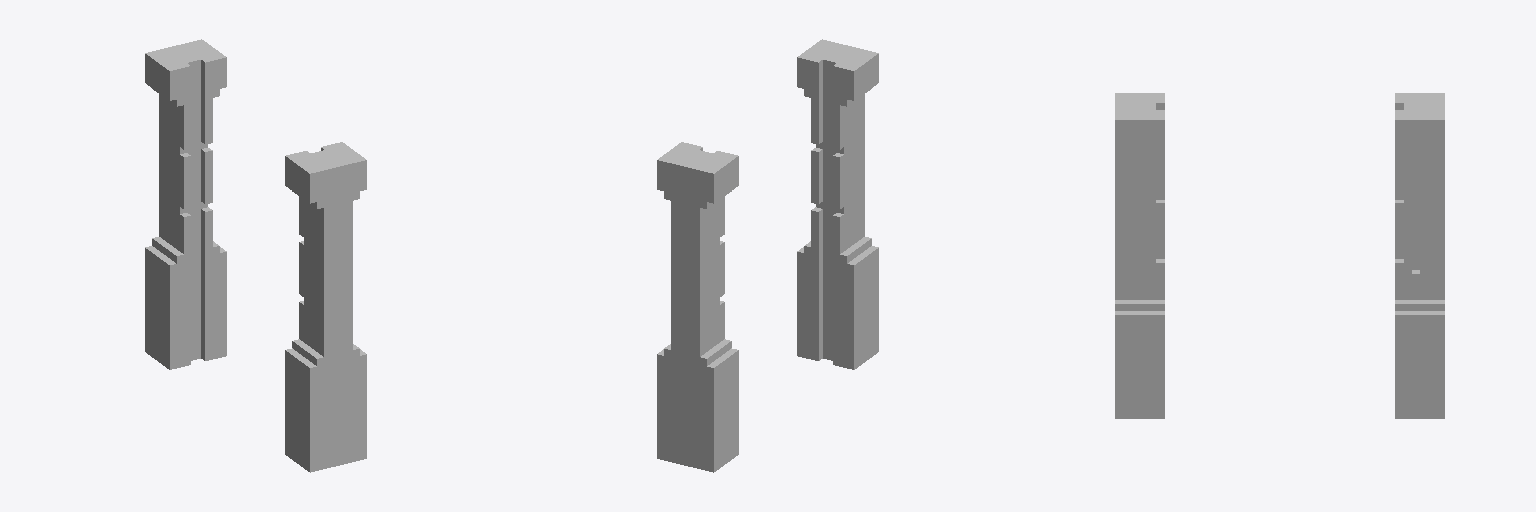
File: door frame.obj
3 views of the same model, side by side, from view 1: azimuth 30°, elevation 25°; view 2: azimuth 150°, elevation 25°; view 3: azimuth 270°, elevation 25° (orthographic).
Parts seen in each view (by area): view 1: door frame; view 2: door frame; view 3: door frame.
Boxes of the visible parts, <box> form: door frame: <box>145,39,366,472</box>; door frame: <box>657,39,878,472</box>; door frame: <box>1115,93,1444,418</box>.
Size of the model in its own units: 8 by 40 by 40.